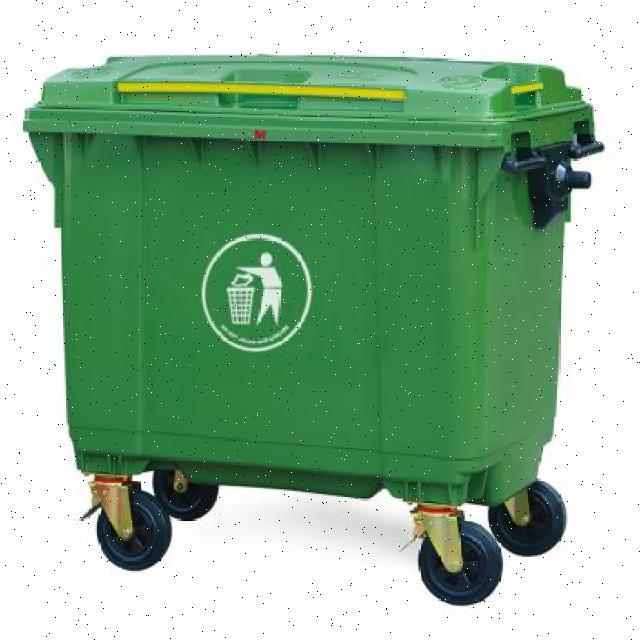garbage container: (12, 51, 631, 640)
